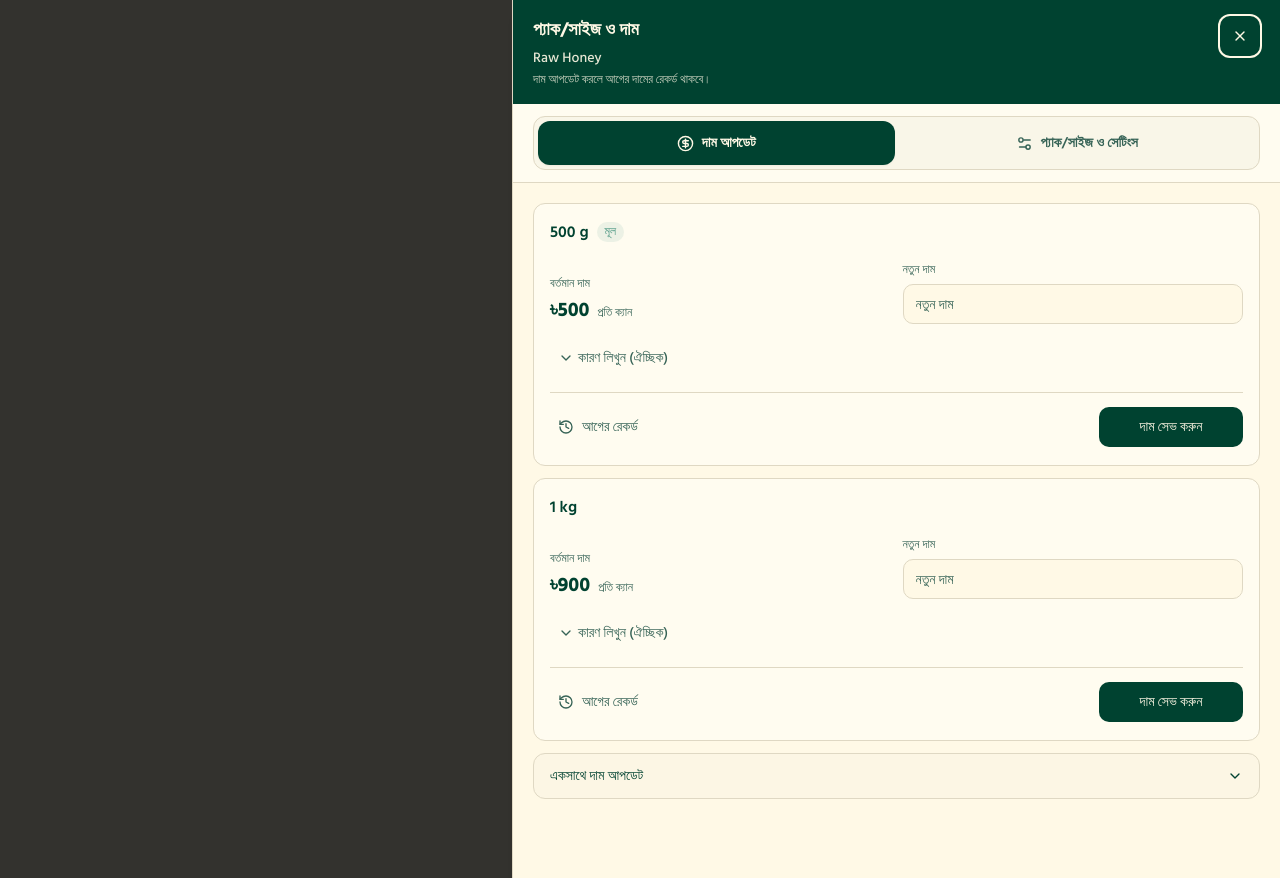
it: price-first pack/size drawer › keeps bulk editing collapsed and submits only changed prices together
Expected: the button "সব দাম সেভ করুন" is not shown
Click the button "একসাথে দাম আপডেট" at (597, 776), box x1=534 y1=754 x2=1259 y2=798
(page scrolled)
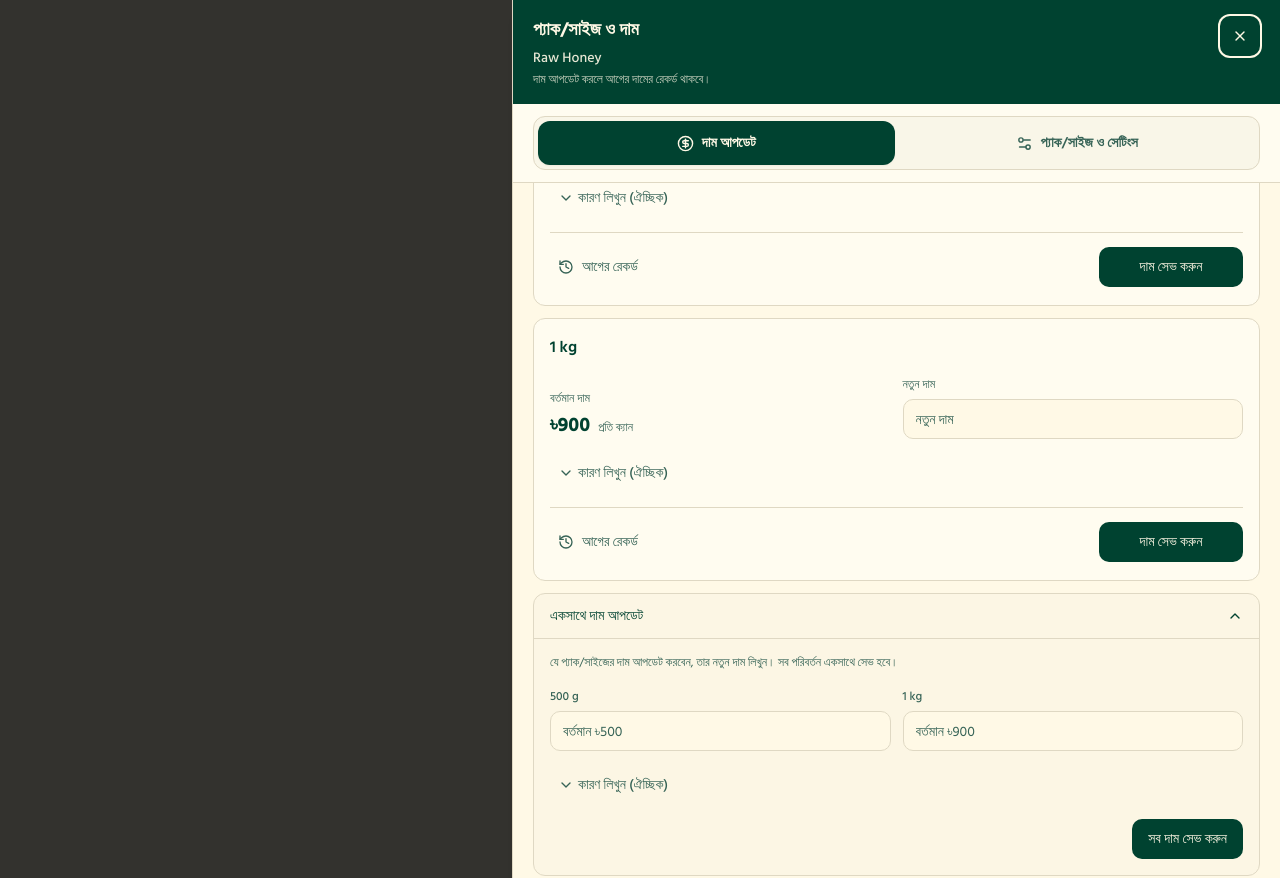
Type "550" into the number field with placeholder "বর্তমান ৳500" at (720, 731), box x1=550 y1=711 x2=890 y2=751
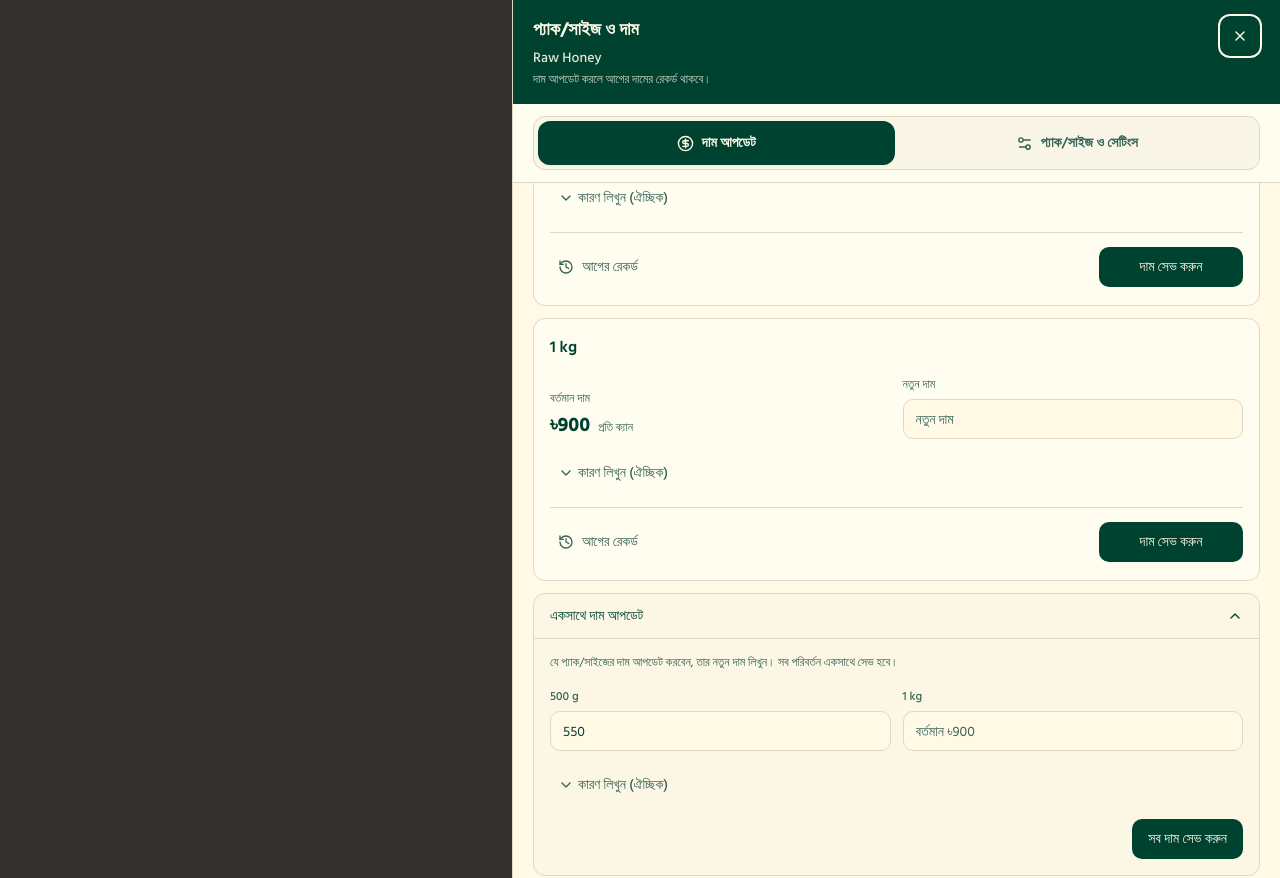
Click the button "সব দাম সেভ করুন" at (1188, 839), box x1=1132 y1=819 x2=1243 y2=859
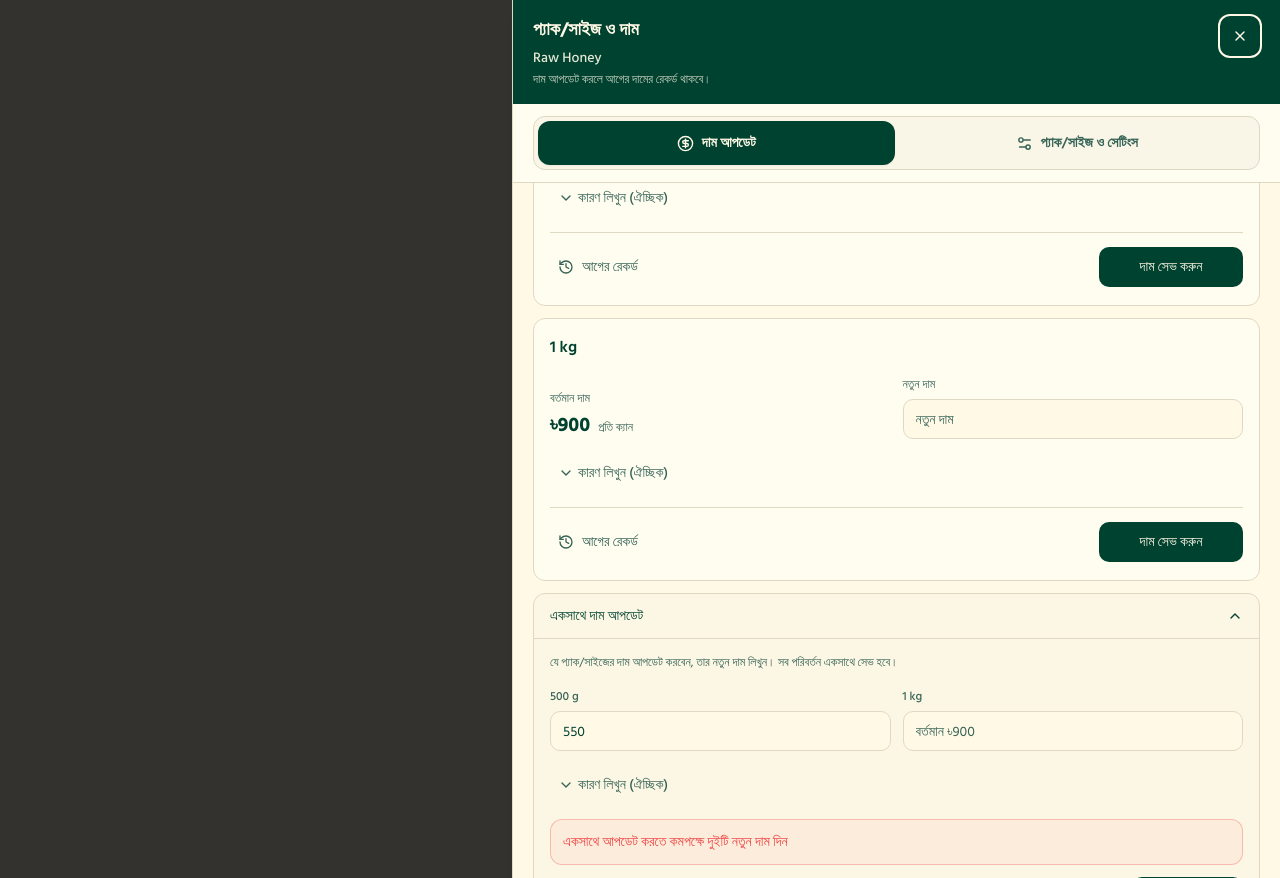
Result: the message shows "কমপক্ষে দুইটি" at x1=563 y1=830 x2=788 y2=853
Type "950" into the number field with placeholder "বর্তমান ৳900" at (1073, 731), box x1=902 y1=711 x2=1243 y2=751
(page scrolled)
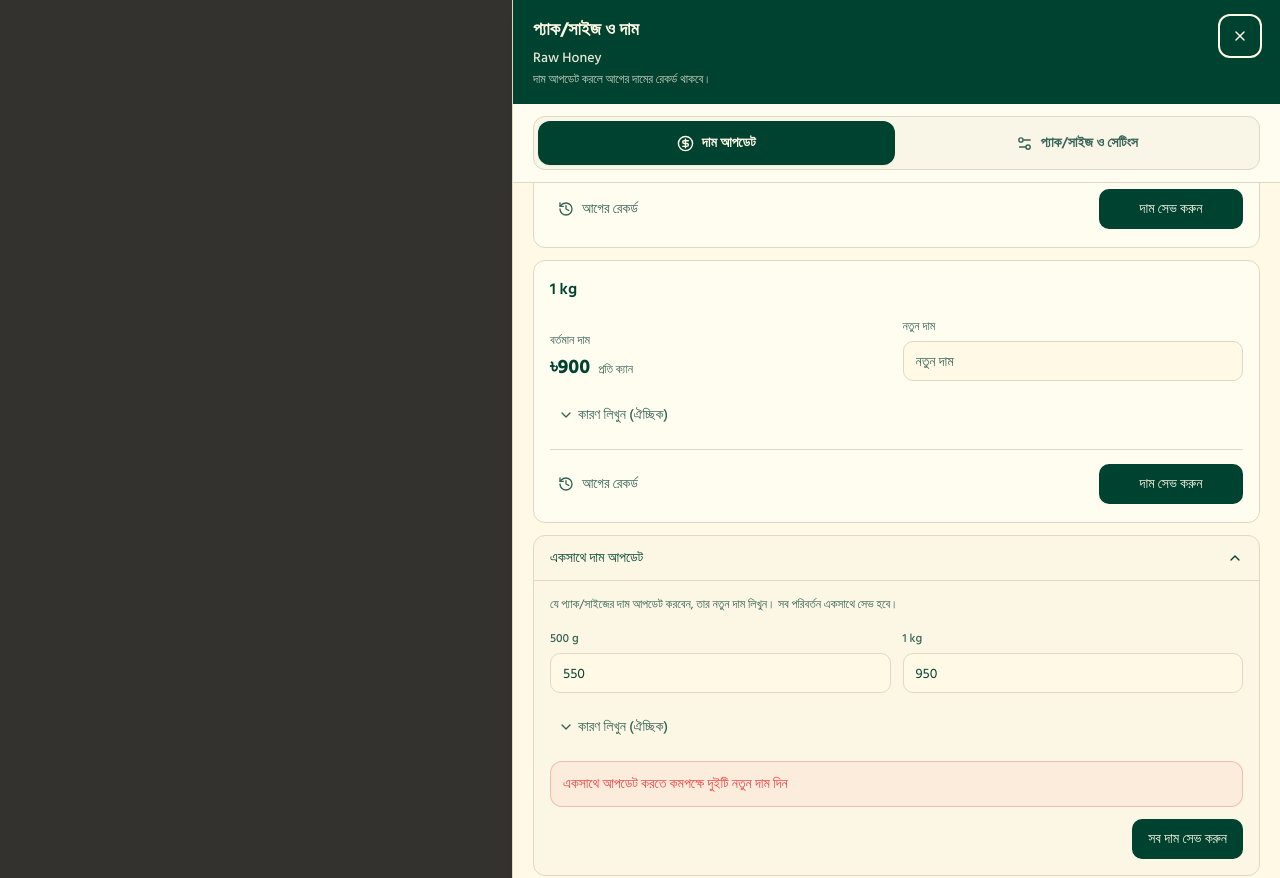
Click the button "সব দাম সেভ করুন" at (1188, 839), box x1=1132 y1=819 x2=1243 y2=859
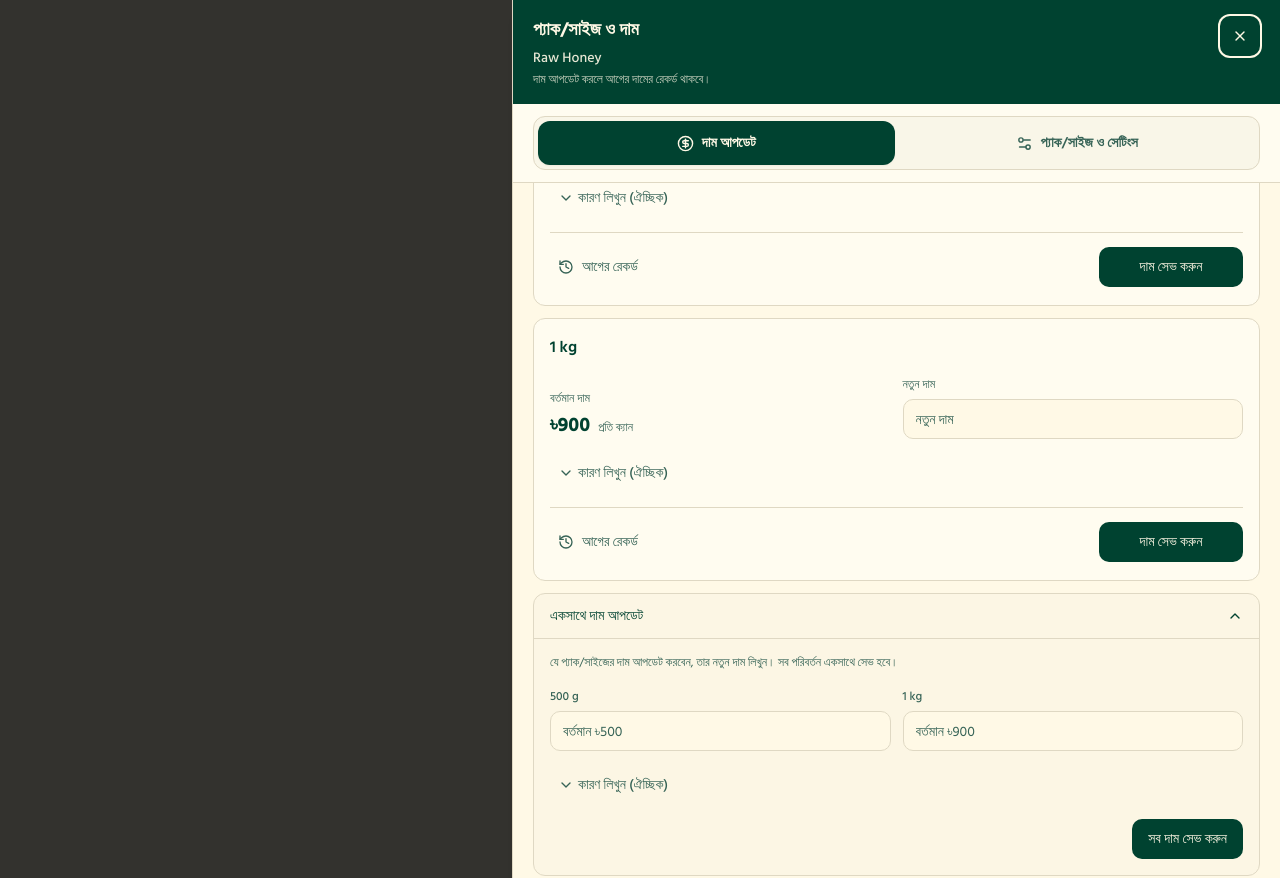
Result: the number field with placeholder "বর্তমান ৳500" is not empty at x1=550 y1=711 x2=890 y2=751
